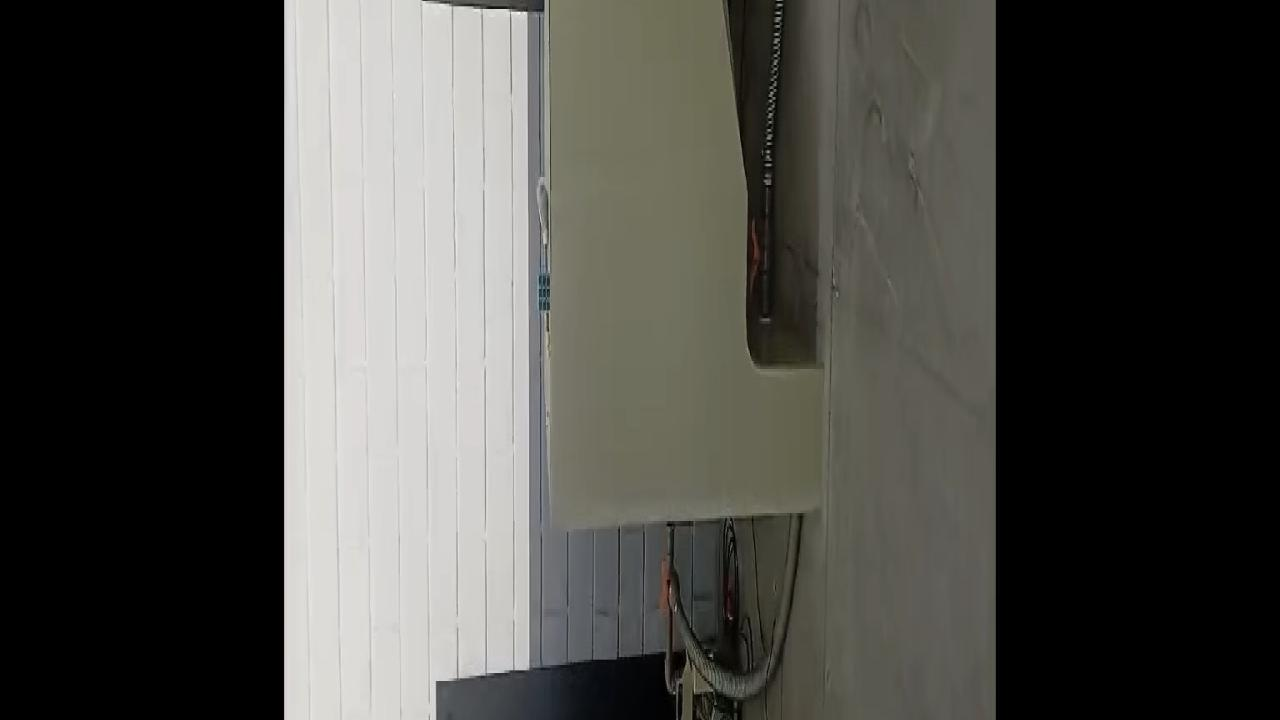Cube: (534, 256, 554, 320)
